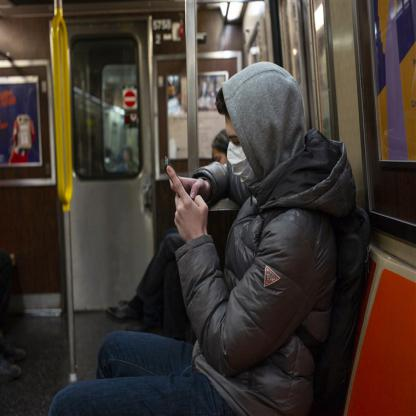Wearing_Mask: (219, 80, 280, 197)
